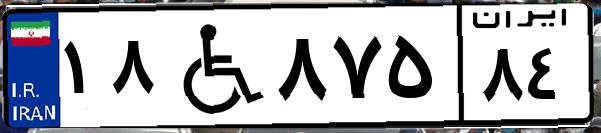1: (57, 26, 110, 100)
4: (525, 38, 570, 115)
5: (385, 28, 445, 110)
7: (330, 28, 385, 110)
8: (270, 28, 330, 110), (475, 38, 525, 113), (110, 28, 158, 98)
ژ (معلولین و جانبازان): (158, 12, 270, 120)
